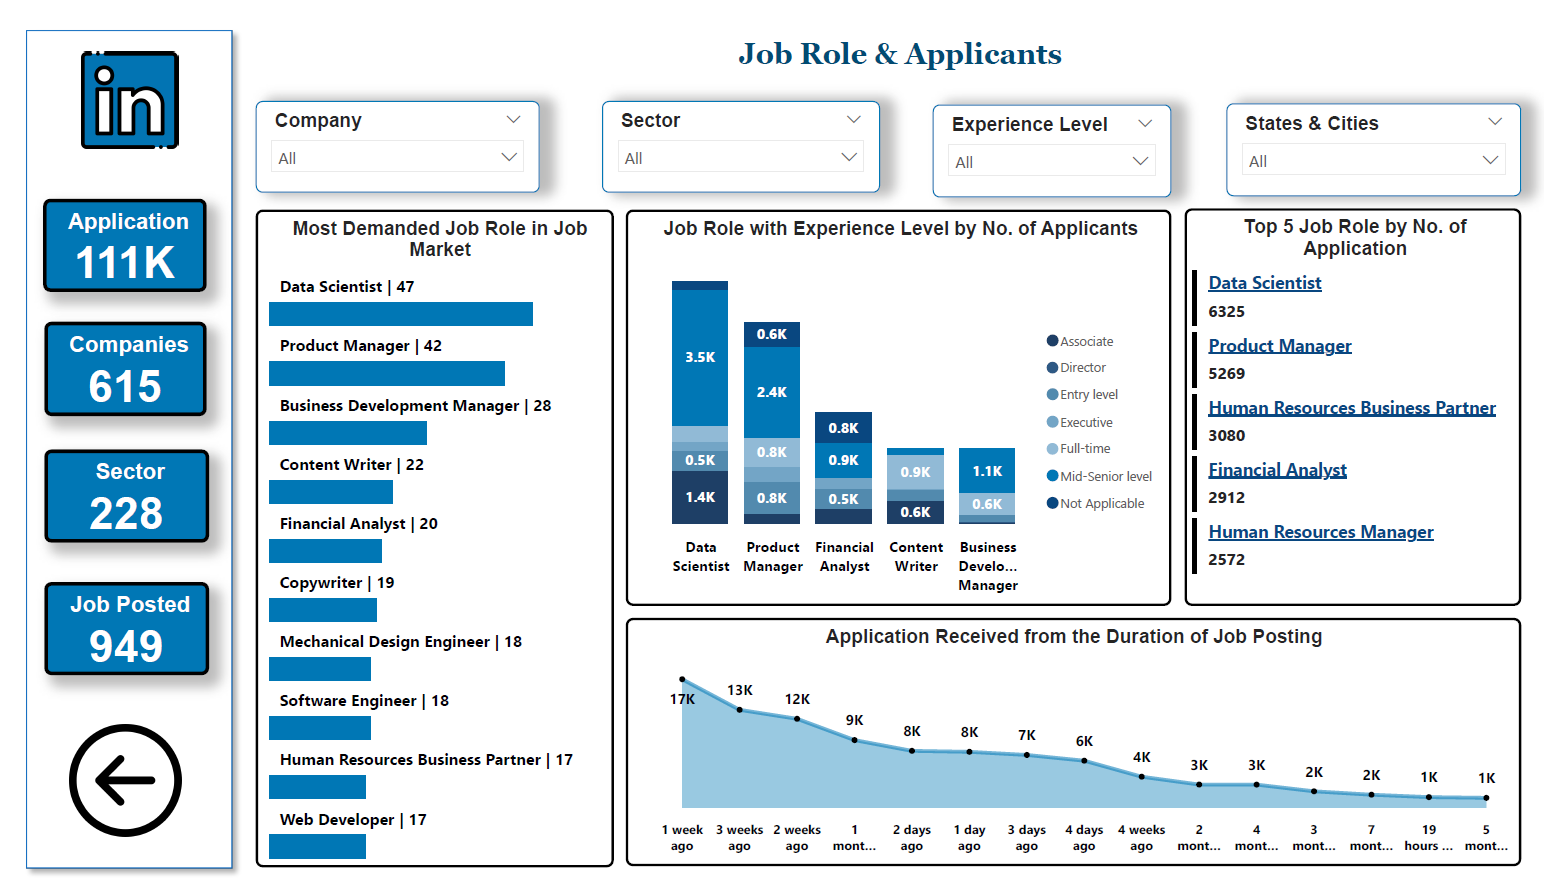

The dashboard page shown, as its layout file describes it:
{"tool":"powerbi","page":{"name":"3. Job Role and Applicants","canvas":[1280,720],"ordinal":3},"visuals":[{"type":"shape","box":[0,0,190.6,720.2],"z":0},{"type":"card","title":"Application","fields":{"Values":["Sum(LinkedIn Jobs Data.applicationsCount)"]},"box":[22.9,149.6,137.5,78.4],"z":1000},{"type":"card","title":"Sector","fields":{"Values":["MeasureTable.Sector"]},"box":[24.1,359.5,137.5,78.4],"z":2000},{"type":"card","title":"Job Posted","fields":{"Values":["CountNonNull(LinkedIn Jobs Data.Job Posted Time)"]},"box":[24.1,470.5,137.5,78.4],"z":3000},{"type":"card","title":"Companies","fields":{"Values":["MeasureTable.No of Companies"]},"box":[24.1,253.4,136.3,78.4],"z":4000},{"type":"image","box":[45.8,21.7,97.7,91.7],"z":5000},{"type":"slicer","fields":{"Values":["LinkedIn Jobs Data.Company Name"]},"box":[201.2,67.5,237.5,77.5],"z":6000},{"type":"slicer","fields":{"Values":["LinkedIn Jobs Data.Sector"]},"box":[491.2,67.5,232.5,77.5],"z":7000},{"type":"slicer","fields":{"Values":["LinkedIn Jobs Data.State","LinkedIn Jobs Data.City"]},"box":[1013.8,70,247.5,77.5],"z":8000},{"type":"slicer","fields":{"Values":["LinkedIn Jobs Data.Experience Level"]},"box":[767.5,71.2,200,77.5],"z":9000},{"type":"clusteredBarChart","title":"Most Demanded Job Role in Job Market","fields":{"Y":["MeasureTable.Job Posted","MeasureTable.Labels Placeholder"],"Category":["LinkedIn Jobs Data.Job Role"]},"box":[201.2,158.8,300,551.2],"z":10000},{"type":"columnChart","title":"Job Role with Experience Level by No. of Applicants","fields":{"Category":["LinkedIn Jobs Data.Job Role"],"Y":["MeasureTable.No of Applicants"],"Series":["LinkedIn Jobs Data.Experience Level"]},"box":[511.2,158.8,456.2,332.5],"z":11000},{"type":"multiRowCard","title":"Top 5 Job Role by No. of Application","fields":{"Values":["Sum(LinkedIn Jobs Data.Applicants)","LinkedIn Jobs Data.Job Role"]},"box":[978.8,157.5,282.5,333.8],"z":12000},{"type":"lineChart","title":"Application Received from the Duration of Job Posting","fields":{"Y":["MeasureTable.No of Applicants"],"Category":["LinkedIn Jobs Data.Job Posted Time"]},"box":[511.2,501.2,750,207.5],"z":13000},{"type":"image","box":[38.6,585.1,105,103.8],"z":14000},{"type":"textbox","box":[562.5,10,356.2,41.2],"z":15000}]}

Visuals, with their boxes in screenshot pixels (x1, y1, x2, y2), scaled from the page's 1280x720 canvas onto the 1546x892 screenshot:
shape: 0,0,230,891
"Application" card: 28,185,194,282
"Sector" card: 29,445,195,543
"Job Posted" card: 29,583,195,680
"Companies" card: 29,314,194,411
image: 55,27,173,140
slicer - LinkedIn Jobs Data.Company Name: 243,84,530,180
slicer - LinkedIn Jobs Data.Sector: 593,84,874,180
slicer - LinkedIn Jobs Data.State x LinkedIn Jobs Data.City: 1224,87,1523,183
slicer - LinkedIn Jobs Data.Experience Level: 927,88,1169,184
"Most Demanded Job Role in Job Market" clusteredBarChart: 243,197,605,880
"Job Role with Experience Level by No. of Applicants" columnChart: 617,197,1168,609
"Top 5 Job Role by No. of Application" multiRowCard: 1182,195,1523,609
"Application Received from the Duration of Job Posting" lineChart: 617,621,1523,878
image: 47,725,173,853
textbox: 679,12,1110,63
